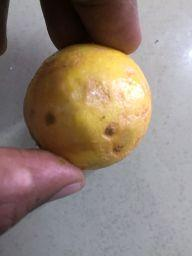lemon: (20, 40, 155, 171)
